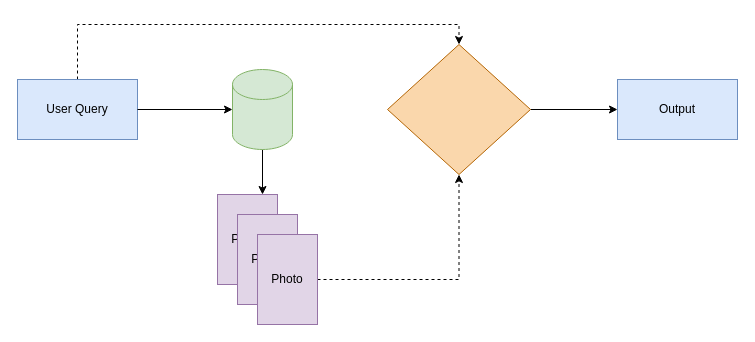
Image size: 755x342. Some labels were removed from this diagram. The centre of each missing label's shape, as x and y in pixels:
"LLM with Vision" goes at point 458,109.
"VectorDB" goes at point 262,109.
